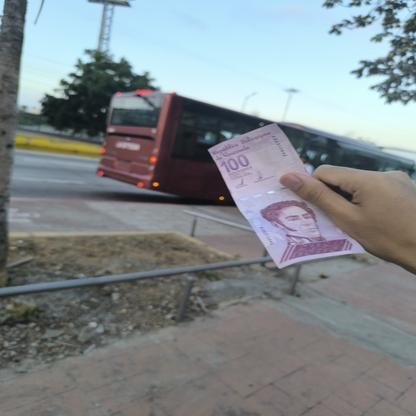one_hundred-front-vef: (208, 121, 366, 269)
